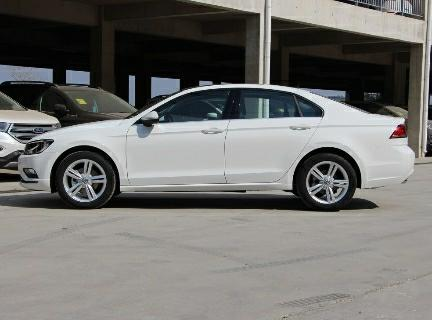car: (16, 86, 417, 224)
